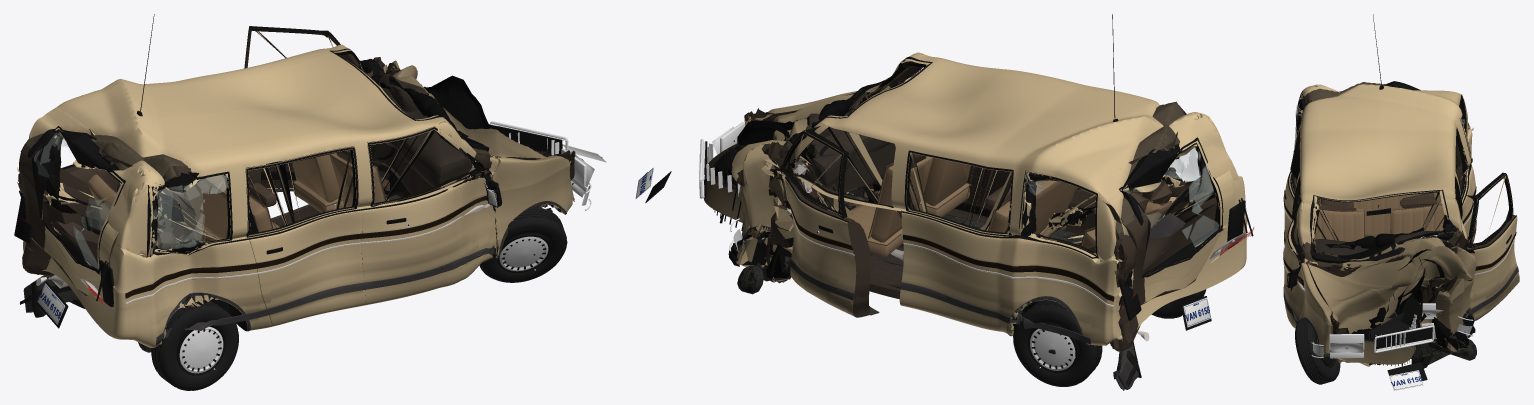
Rendered from minivan86_front_corner_d3.glb.
3 views of the same model, side by side, from view 1: azimuth 30°, elevation 25°; view 2: azimuth 150°, elevation 25°; view 3: azimuth 270°, elevation 25° (orthographic). The views are drawn at different scales.
Visible parts, largest first — view 1: Body, Interior, Door_FR, Door_SR, Liftgate, Wheel_RR_mesh, Glass, Trim, Wheel_FR_mesh, Ends, Glass_Liftgate, Hood (+4 smaller); view 2: Body, Interior, Door_FL, Trim, Liftgate, Wheel_RL_mesh, Ends, Glass_Liftgate, Hood, Glass, Trim_FL, Underbody (+3 smaller); view 3: Body, Hood, Interior, Door_FL, Ends, Glass, Trim, Wheel_FR_mesh, Engine, Door_FR, Trim_FL, Underbody (+3 smaller).
Boxes of the visible parts, box(x1,y1,x2,y2) form: Body: box(17, 44, 575, 347); Interior: box(88, 72, 472, 249); Door_FR: box(361, 126, 497, 305); Door_SR: box(245, 146, 365, 326); Liftgate: box(19, 108, 158, 295); Wheel_RR_mesh: box(151, 301, 238, 390); Glass: box(143, 48, 489, 257); Trim: box(125, 14, 566, 346); Wheel_FR_mesh: box(479, 207, 567, 282); Ends: box(14, 121, 606, 328); Glass_Liftgate: box(27, 126, 125, 274); Hood: box(387, 65, 547, 207); Body: box(703, 52, 1247, 351); Interior: box(798, 73, 1172, 256); Door_FL: box(776, 126, 871, 317); Trim: box(719, 14, 1186, 344); Liftgate: box(1094, 112, 1235, 305); Wheel_RL_mesh: box(1013, 300, 1102, 386); Ends: box(635, 122, 1253, 330); Glass_Liftgate: box(1119, 137, 1223, 277); Hood: box(731, 94, 853, 186); Glass: box(787, 56, 1208, 238); Trim_FL: box(770, 131, 879, 315); Underbody: box(737, 193, 1189, 354); Body: box(1288, 82, 1476, 364); Hood: box(1307, 238, 1472, 366); Interior: box(1314, 192, 1444, 255); Door_FL: box(1465, 172, 1519, 320); Ends: box(1311, 303, 1473, 390); Glass: box(1294, 95, 1470, 263); Trim: box(1284, 14, 1476, 366); Wheel_FR_mesh: box(1295, 317, 1340, 384); Engine: box(1368, 284, 1438, 366); Door_FR: box(1283, 176, 1305, 328); Trim_FL: box(1466, 174, 1518, 315); Underbody: box(1322, 339, 1476, 368).
Bounding box in the file's own units: 4.55 × 2.57 × 2.16.
Materials: 33 (5 with a texture image).
